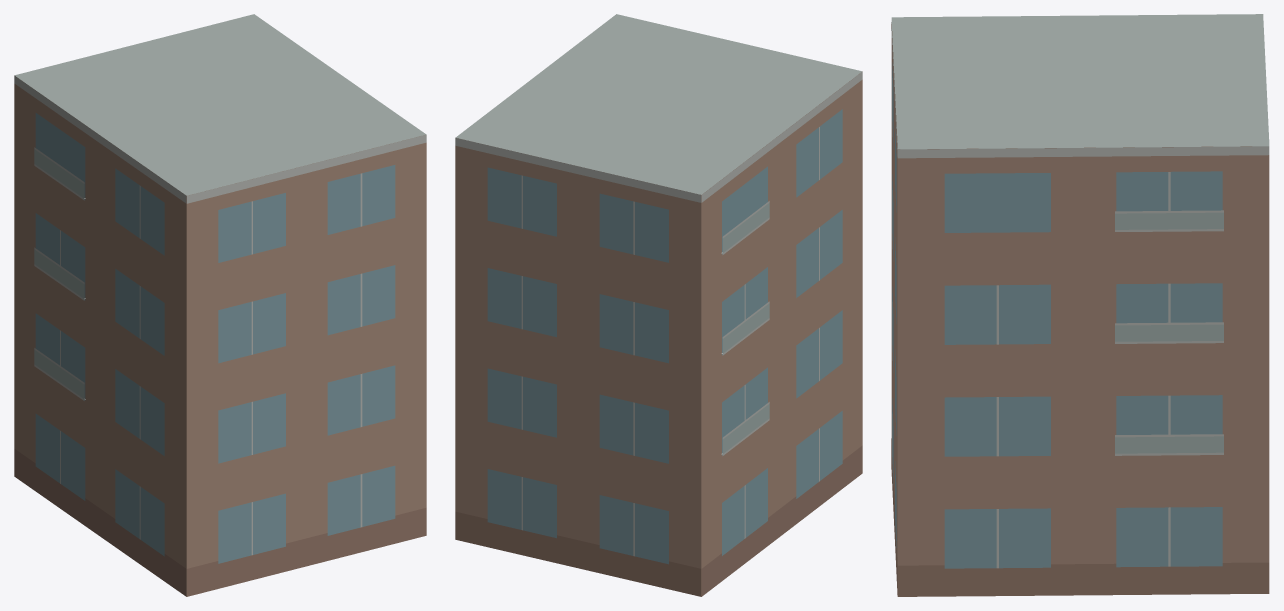
Rendered from residential-734ea2df-41f8-47ee-9d78-c4e639c7aaa7.glb.
The picture shows the model from 3 angles, left to right: view 1: azimuth 30°, elevation 25°; view 2: azimuth 150°, elevation 25°; view 3: azimuth 270°, elevation 25°; orthographic projection. The views are drawn at different scales.
Parts seen in each view (by area): view 1: residential-734ea2df-41f8-47ee-9d78-c4e639c7aaa7.tmp; view 2: residential-734ea2df-41f8-47ee-9d78-c4e639c7aaa7.tmp; view 3: residential-734ea2df-41f8-47ee-9d78-c4e639c7aaa7.tmp.
Boxes of the visible parts, x1=… form: residential-734ea2df-41f8-47ee-9d78-c4e639c7aaa7.tmp: x1=14, y1=14, x2=426, y2=596; residential-734ea2df-41f8-47ee-9d78-c4e639c7aaa7.tmp: x1=455, y1=14, x2=862, y2=596; residential-734ea2df-41f8-47ee-9d78-c4e639c7aaa7.tmp: x1=891, y1=14, x2=1269, y2=596.
Bounding box in the file's own units: 7.93 × 12.2 × 9.35.
